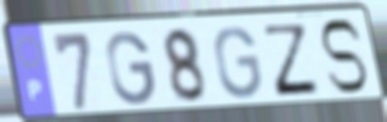7: (49, 30, 95, 114)
8: (163, 25, 208, 106)
G: (103, 29, 158, 108), (211, 24, 264, 102)
S: (317, 16, 370, 97)
Z: (261, 23, 323, 99)
